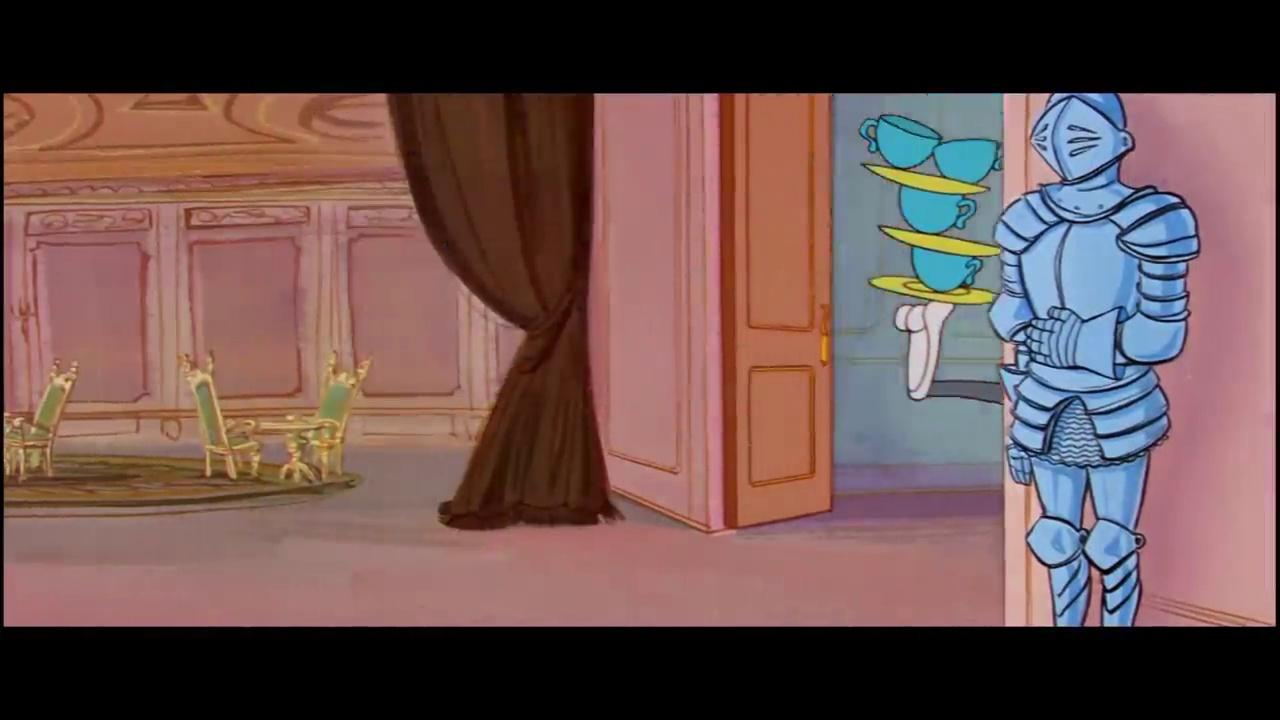Tom: (891, 300, 1003, 416)
